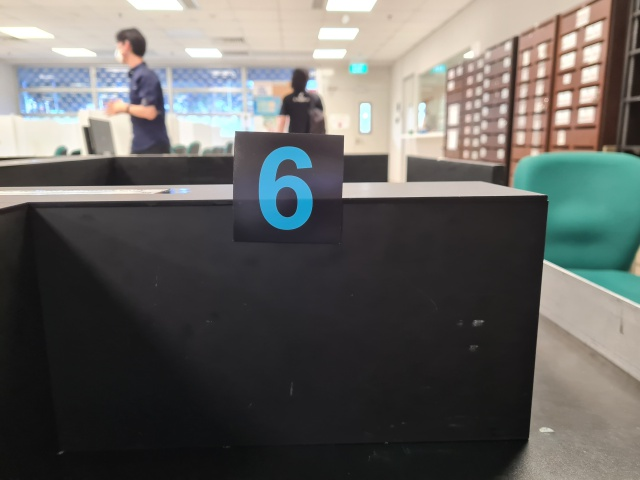six: (234, 130, 343, 244)
